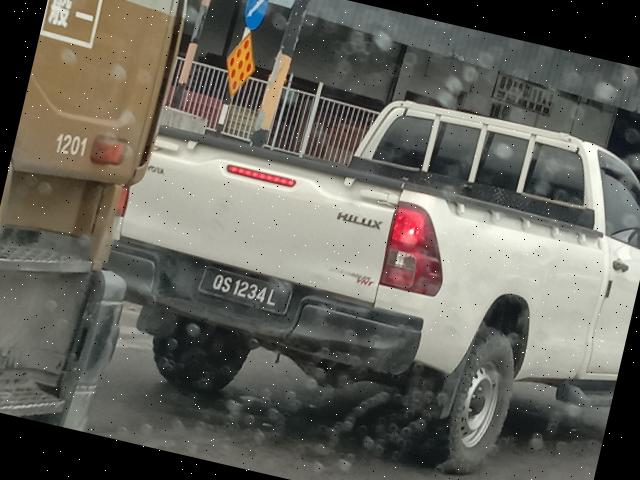License_Plate: (197, 266, 294, 318)
car: (72, 26, 640, 480)
